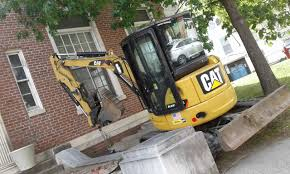excavator: (48, 13, 290, 174)
